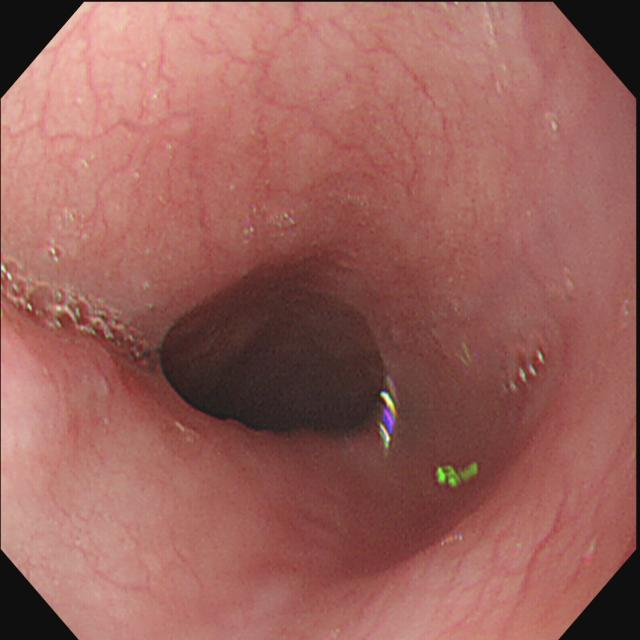E: (160, 276, 389, 435)
T: (2, 241, 157, 372)
U: (503, 346, 548, 396), (376, 377, 403, 455), (434, 462, 479, 488)
